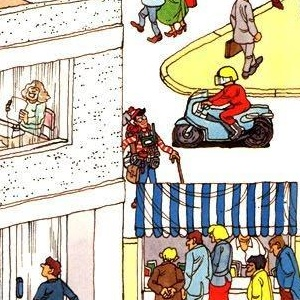Charlie: (122, 106, 178, 194)
